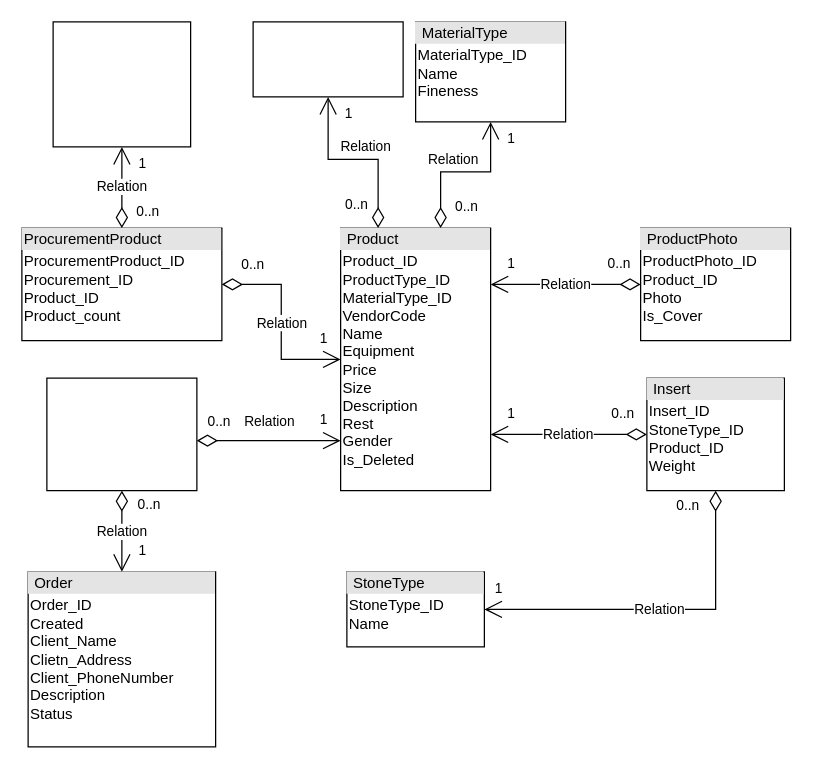
This 813x769 diagram has some shape labels left out. Each missing label, with the centre of its shape:
"OrderProduct OrderProduct_ID Order_ID Product_ID Product_count" belongs at point (121, 434).
"Procurement Procurement_ID Created Received Status Comment" belongs at point (121, 84).
"ProductType ProductType_ID Name" belongs at point (327, 59).
